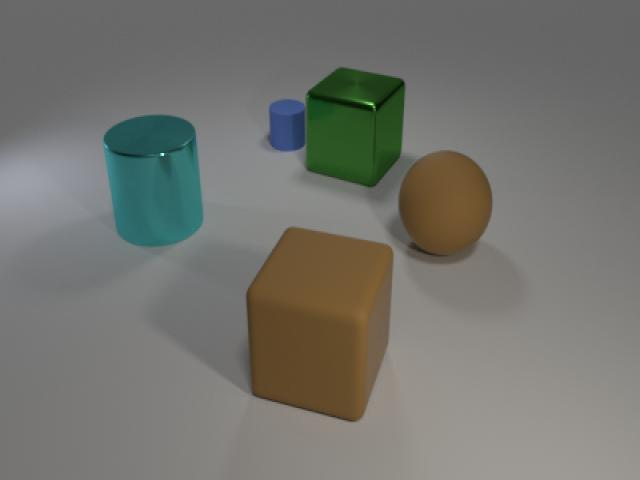cylinder: (98, 109, 211, 250), (264, 93, 308, 156)
round ball: (395, 146, 495, 258)
